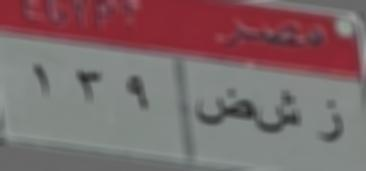1: (31, 60, 54, 99)
3: (74, 63, 105, 108)
9: (124, 69, 153, 119)
daad: (193, 84, 254, 130)
sheen: (258, 85, 303, 138)
zay: (314, 98, 347, 148)
